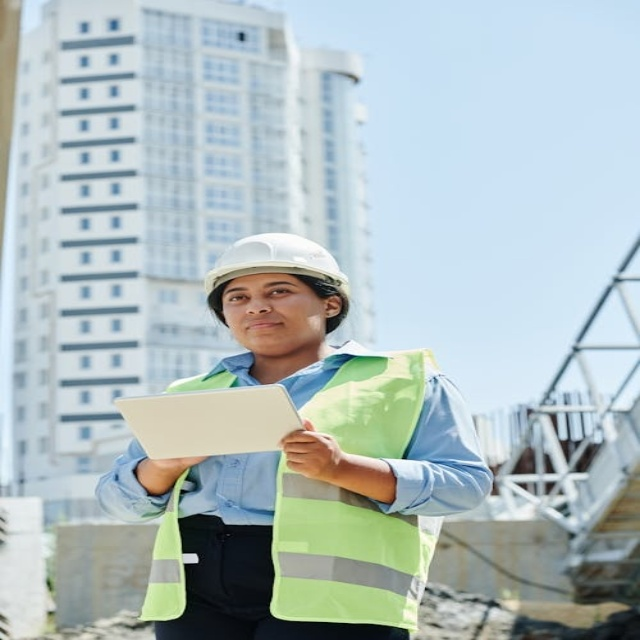Sin_gafas: (215, 276, 303, 305)
Sin_guantes: (278, 416, 358, 485)
Sin_mascara: (233, 315, 296, 340)
